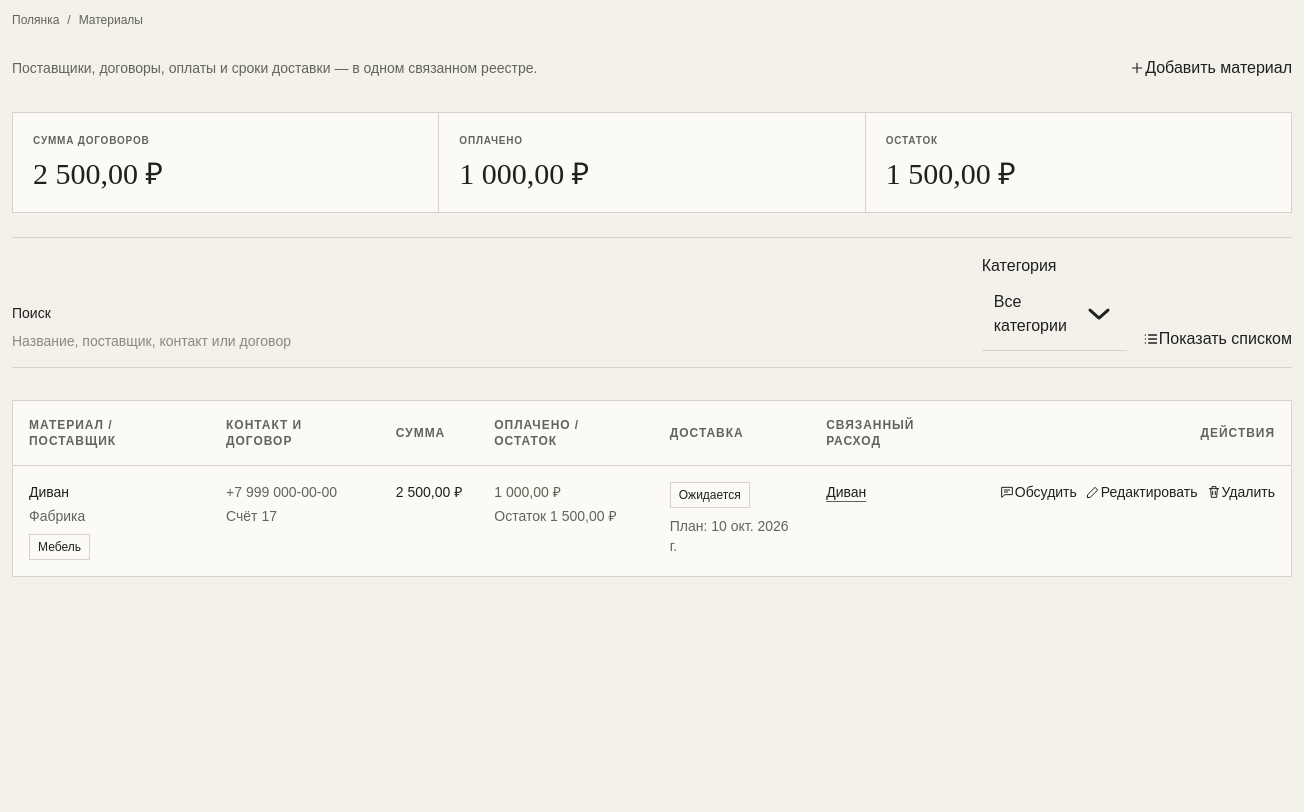
Test: ProjectMaterialsPage › shows totals, filters and linked expense
The image size is (1304, 812).
Expected: the button named "Добавить материал" is shown, x1=1129 y1=56 x2=1145 y2=80
Expected: the text "Фабрика" is shown, x1=29 y1=508 x2=85 y2=524
Step 1. Click the button named "Показать материалы списком" → click(1151, 339), box x1=1143 y1=327 x2=1159 y2=351
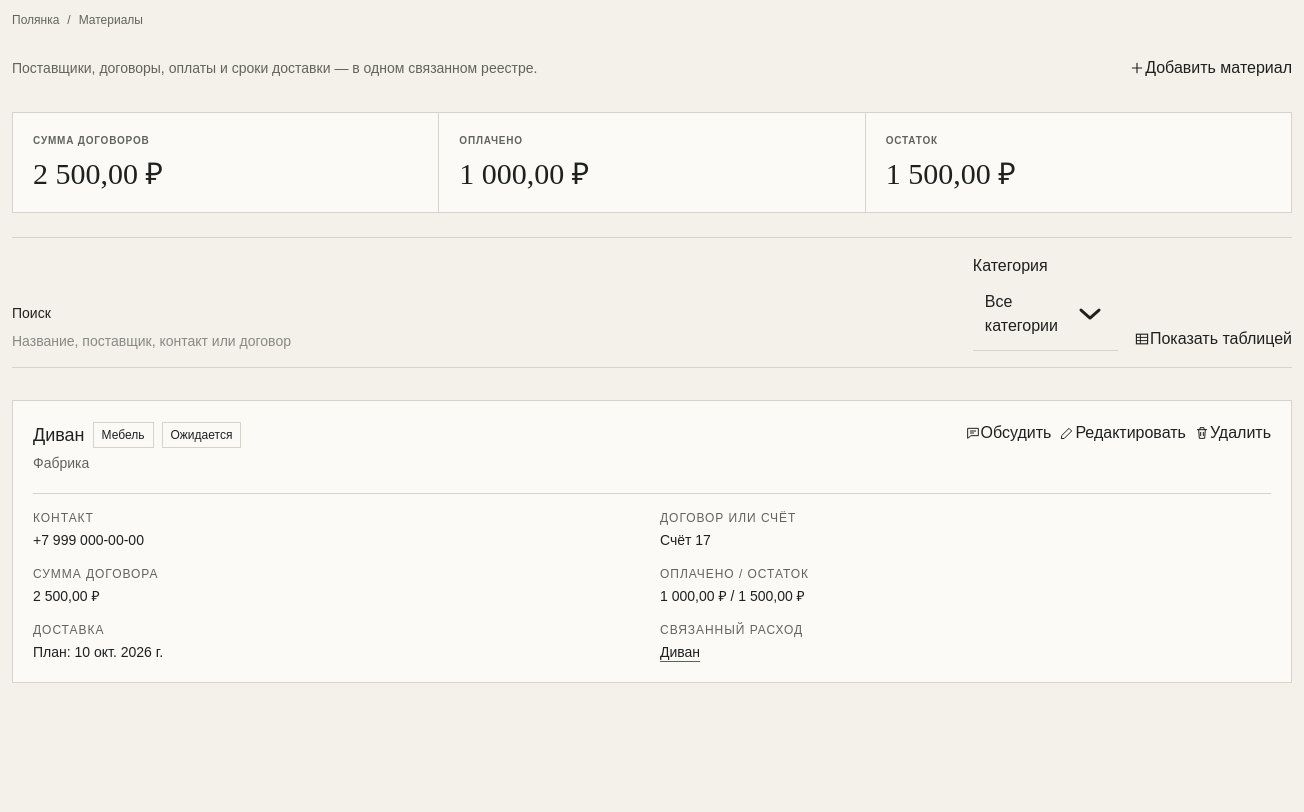
Now the table is gone
Now the list named "Материалы списком" is shown, box x1=12 y1=400 x2=1292 y2=683
Step 2. Type "нет" into the search field with placeholder "Название, поставщик, контакт или договор" → (484, 341), box x1=12 y1=331 x2=957 y2=351
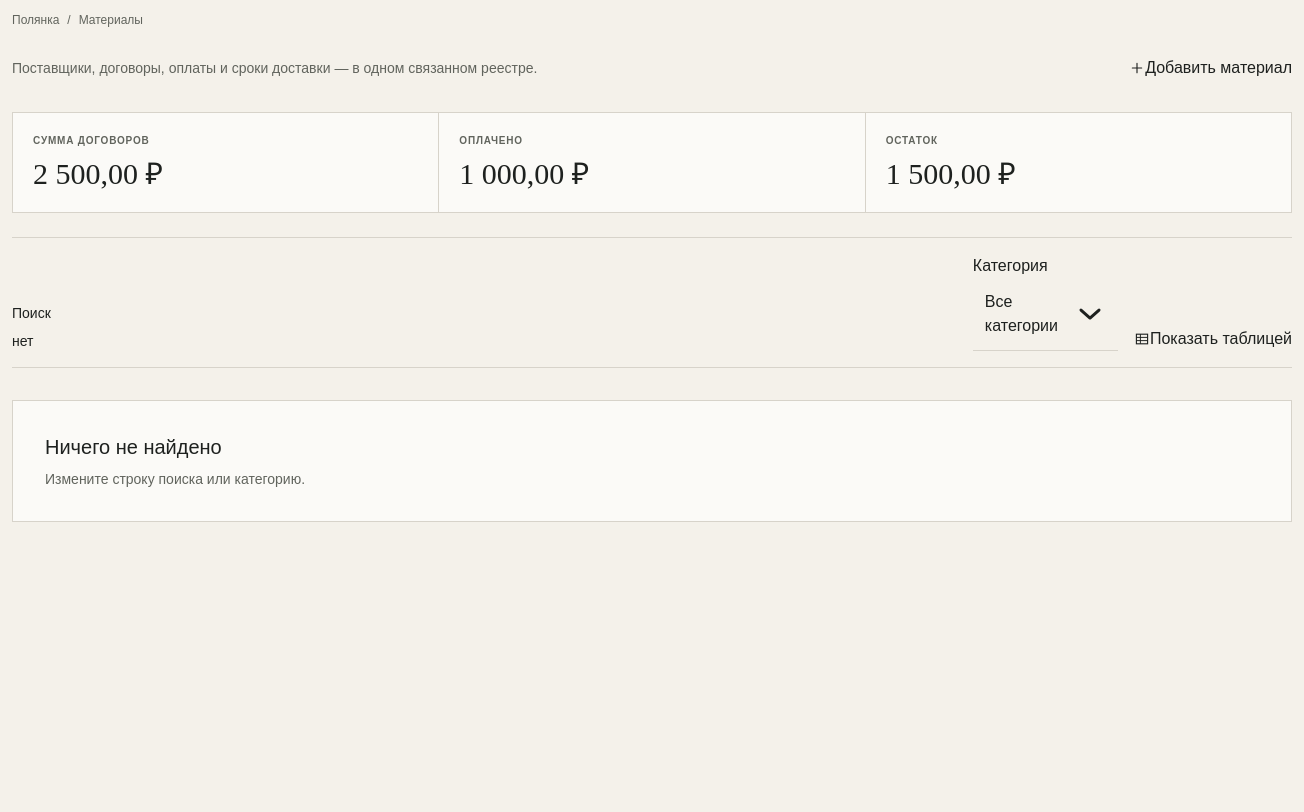
Now the heading "Ничего не найдено" is shown, box x1=45 y1=436 x2=222 y2=458
